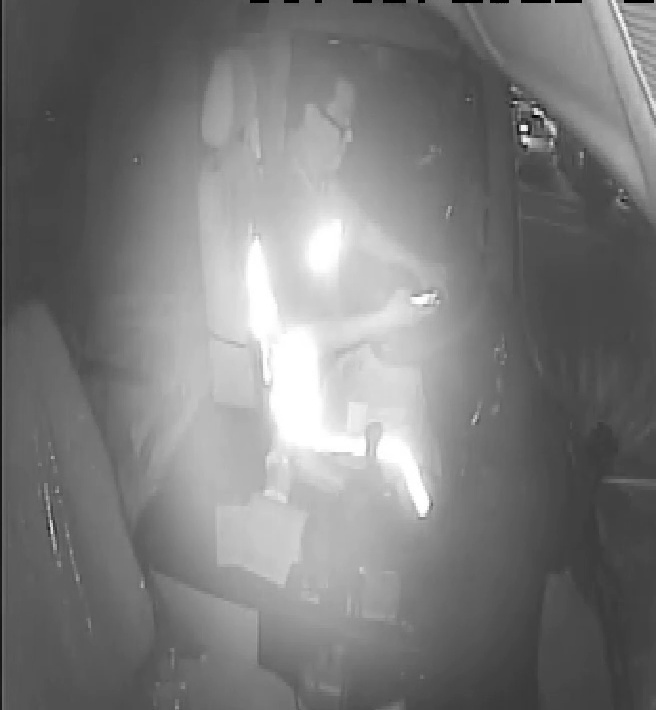cellphone: (400, 288, 442, 316)
